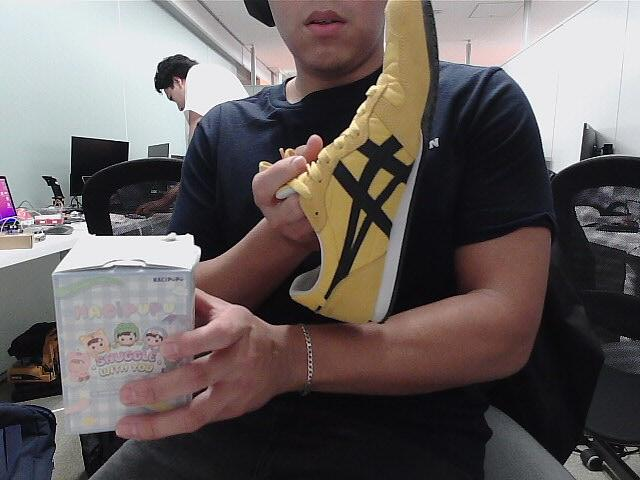Blind_box: (55, 224, 202, 448)
Shoes: (275, 0, 440, 334)
